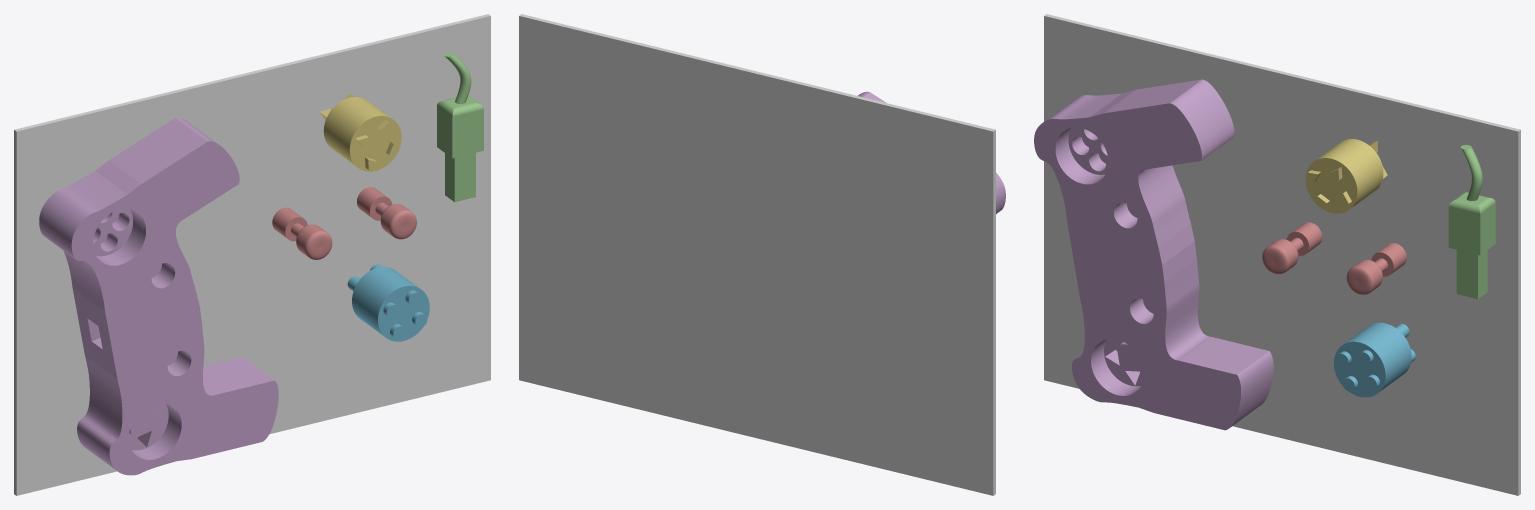
Rendered from pickup_layout.glb.
3 renders of one model, left to right at view 1: azimuth 30°, elevation 25°; view 2: azimuth 150°, elevation 25°; view 3: azimuth 330°, elevation 25°, orthographic.
Parts seen in each view (by area): view 1: world, 3.obj, 4.obj, 2.obj, 1.obj, 5.obj, 0.obj; view 2: world; view 3: world, 3.obj, 4.obj, 2.obj, 1.obj, 5.obj, 0.obj.
Boxes of the visible parts, box(x1,y1,x2,y2) form: world: box(14, 14, 490, 495); 3.obj: box(39, 117, 278, 475); 4.obj: box(437, 52, 483, 202); 2.obj: box(347, 264, 429, 341); 1.obj: box(319, 94, 401, 171); 5.obj: box(272, 207, 332, 259); 0.obj: box(357, 187, 416, 239); world: box(519, 14, 995, 495); world: box(1044, 14, 1520, 495); 3.obj: box(1034, 79, 1273, 430); 4.obj: box(1448, 144, 1495, 299); 2.obj: box(1333, 322, 1415, 397); 1.obj: box(1305, 139, 1387, 213); 5.obj: box(1262, 222, 1322, 274); 0.obj: box(1346, 243, 1406, 295).
Bounding box in the file's own units: 21.04 × 15.45 × 3.2.
